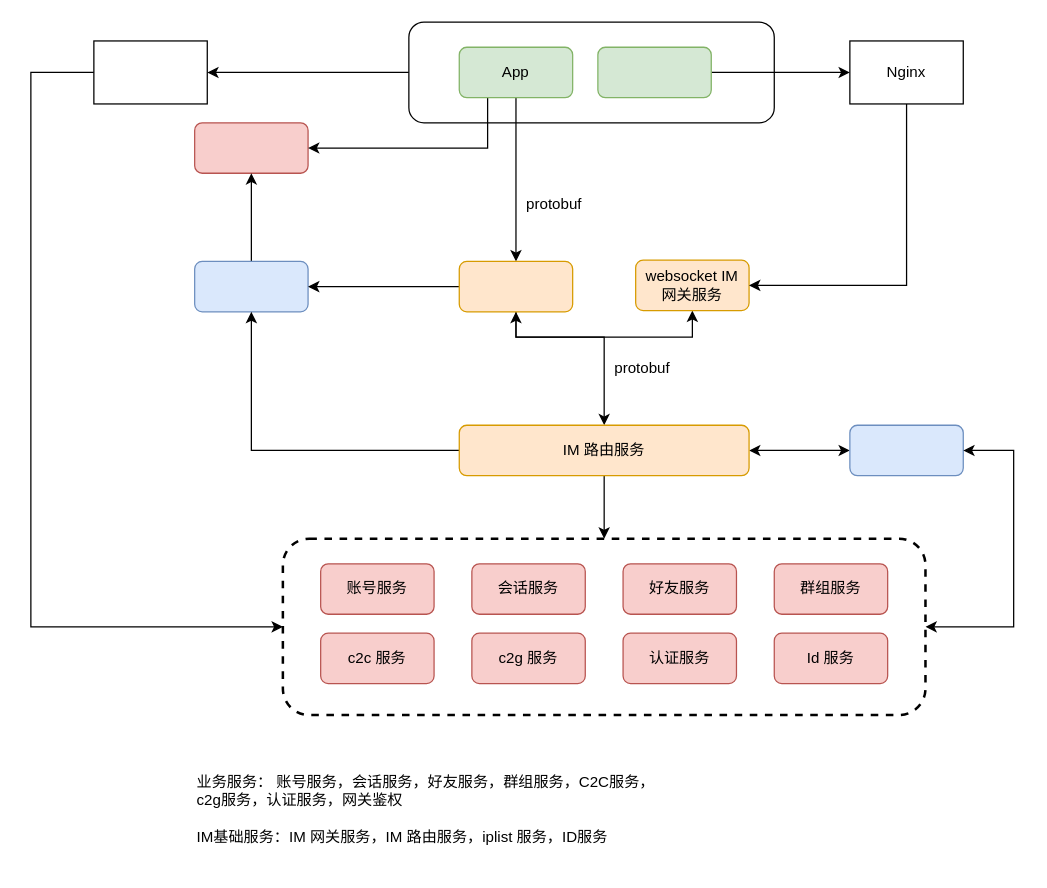
Some shapes in this 1047 by 888 pixel diagram are drawn without their labels. Each missing label, with the centre of its shape:
"Browser" belongs at point 654,72.
"iplist 服务" belongs at point 250,147.
"Kafka / RocketMQ" belongs at point 906,450.
"TCP IM 网关服务" belongs at point 515,286.
"Zookeeper" belongs at point 250,286.
"网关鉴权" belongs at point 150,72.
